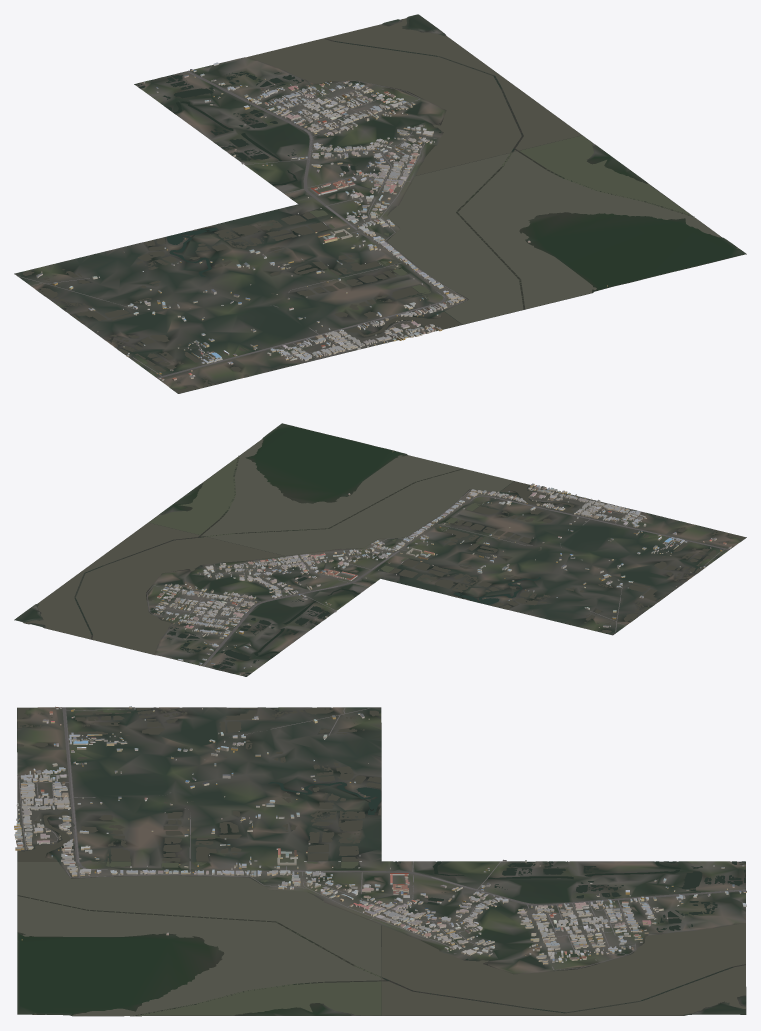
3 views of the same model, one above another, from view 1: azimuth 30°, elevation 25°; view 2: azimuth 150°, elevation 25°; view 3: azimuth 270°, elevation 25° (orthographic). The views are drawn at different scales.
Parts seen in each view (by area): view 1: ground, water, buildings, roads; view 2: ground, water, buildings, roads; view 3: ground, water, buildings, roads.
Part boxes in pixels (box(x1,y1,x2,y2)): ground: box(14, 14, 746, 393); water: box(22, 18, 738, 393); buildings: box(36, 62, 607, 380); roads: box(17, 70, 467, 378); ground: box(14, 423, 746, 676); water: box(24, 428, 746, 676); buildings: box(153, 451, 731, 674); roads: box(146, 489, 729, 666); ground: box(17, 707, 746, 1016); water: box(17, 707, 745, 1016); buildings: box(14, 706, 746, 964); roads: box(17, 707, 746, 970).
Bounding box in the file's own units: 2808 × 19.6 × 2817.
